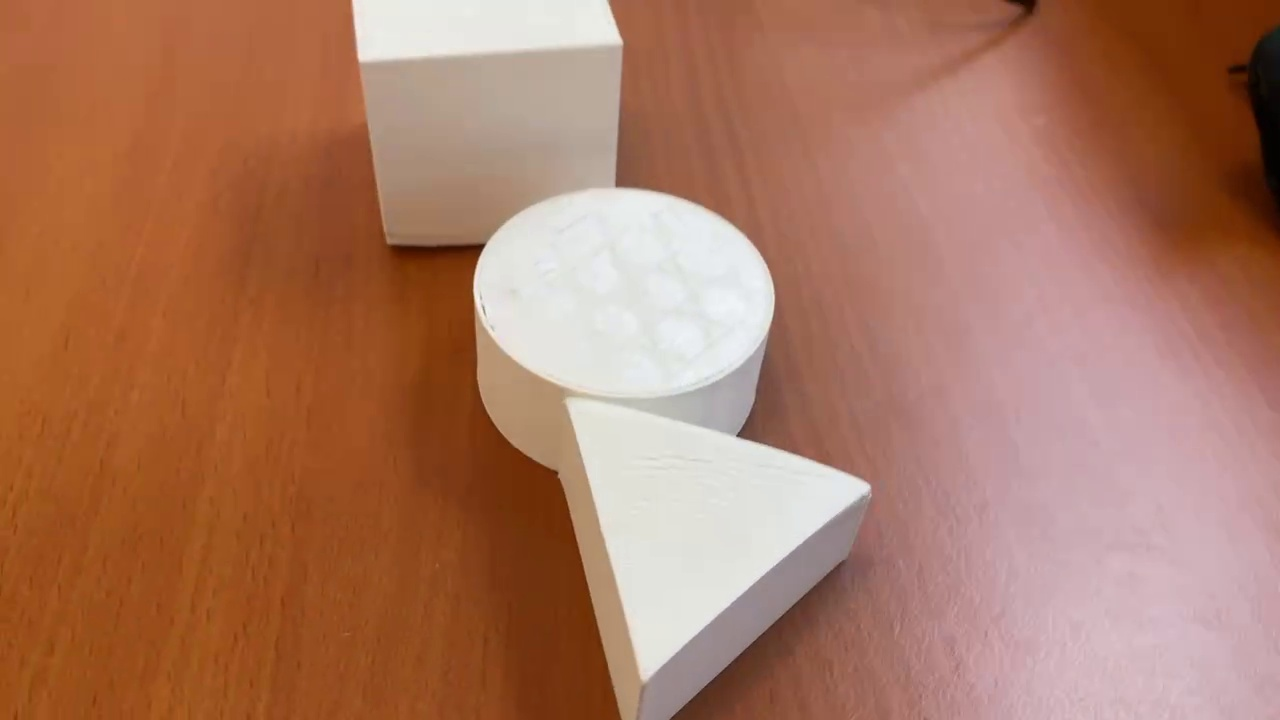Cylinder_short: (475, 185, 777, 472)
Triangle_short: (557, 393, 867, 720)
